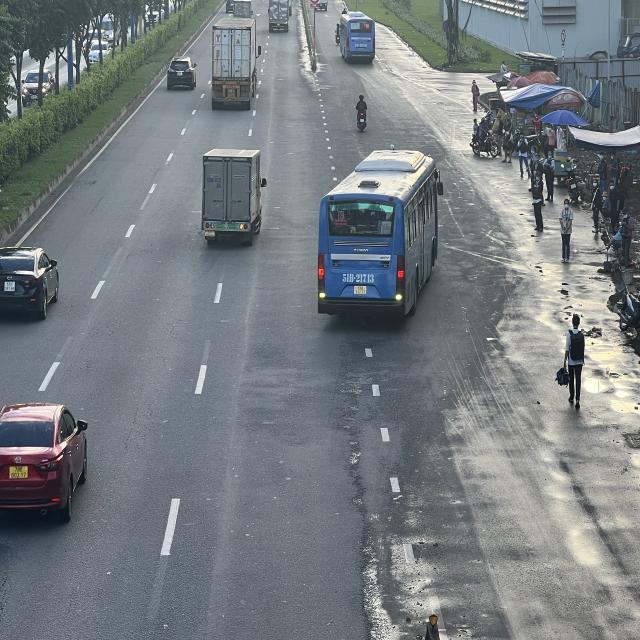car: (1, 401, 91, 518), (0, 246, 58, 321), (168, 57, 198, 91)
coach: (320, 151, 444, 321), (337, 8, 376, 61)
container: (212, 17, 261, 110)
truck: (200, 150, 264, 248), (268, 0, 291, 33)
